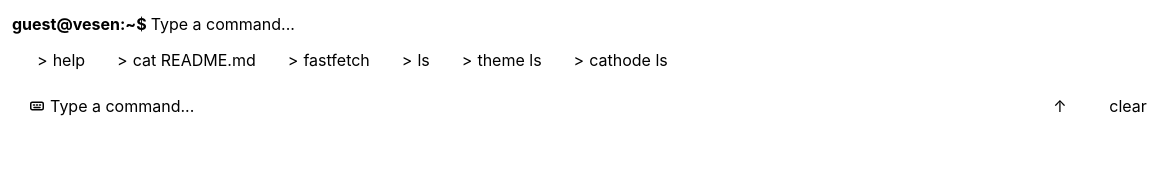
Test: Dock › walks history with ↑ with the keyboard away, without opening it
Click the button named "Previous command (hold for history)".
click(1060, 106)  # box [1028,84,1092,128]
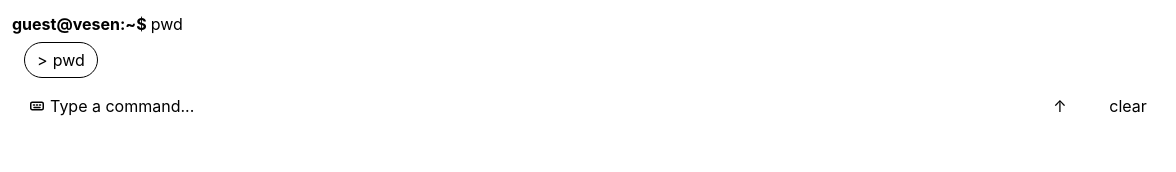
Check: the dropdown with class "command-input" holds "pwd", box [151,12,1164,36]
Check: the option with aria-label "Run: pwd" is shown, box [24,42,98,78]
